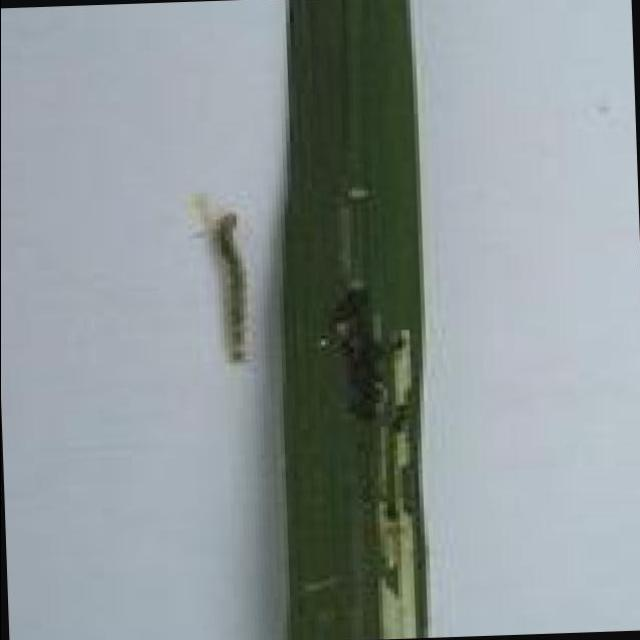leaf folder: (189, 194, 254, 364)
